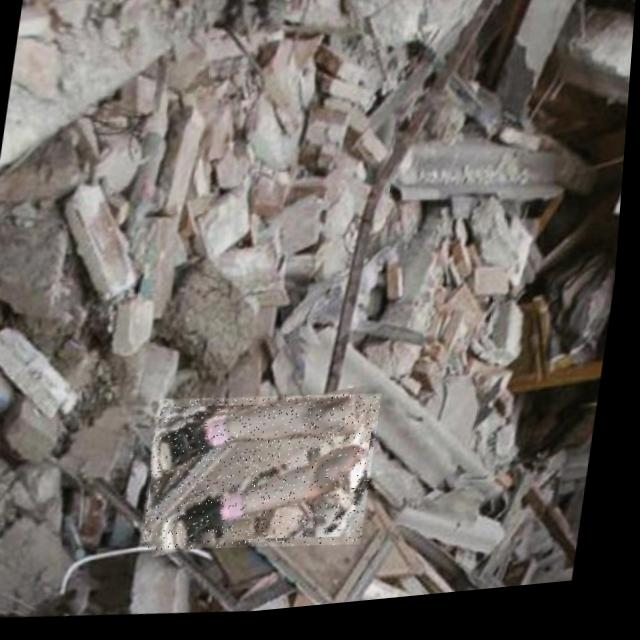Person in Rubble: (144, 386, 388, 569)
